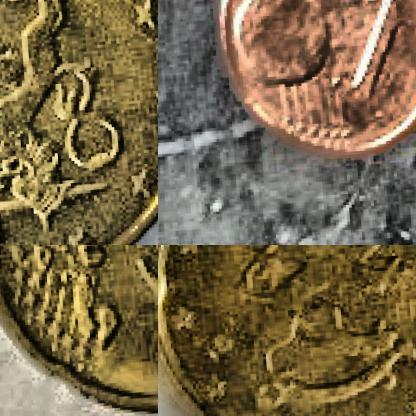coin: (158, 245, 415, 415), (0, 0, 157, 244), (209, 0, 415, 174), (0, 245, 157, 415)
